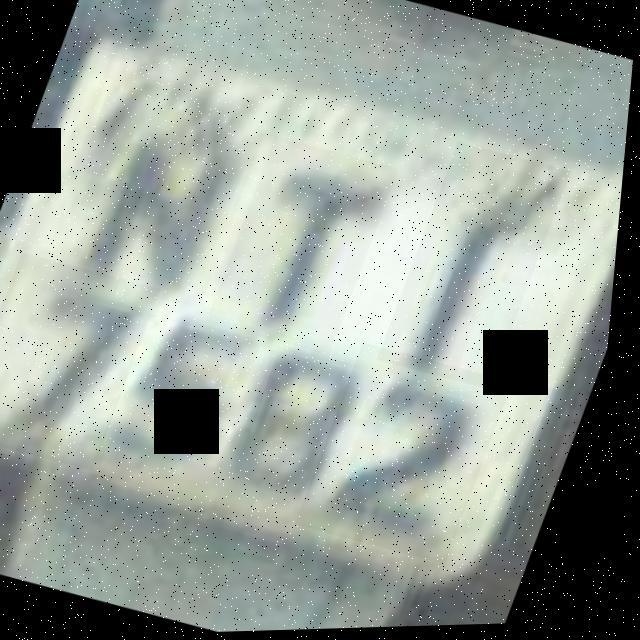2: (301, 341, 523, 571)
5: (88, 291, 278, 491)
7: (0, 249, 168, 474)
8: (194, 309, 399, 533)
N: (51, 65, 279, 331)
T: (208, 134, 404, 360)
Y: (381, 142, 576, 395)
